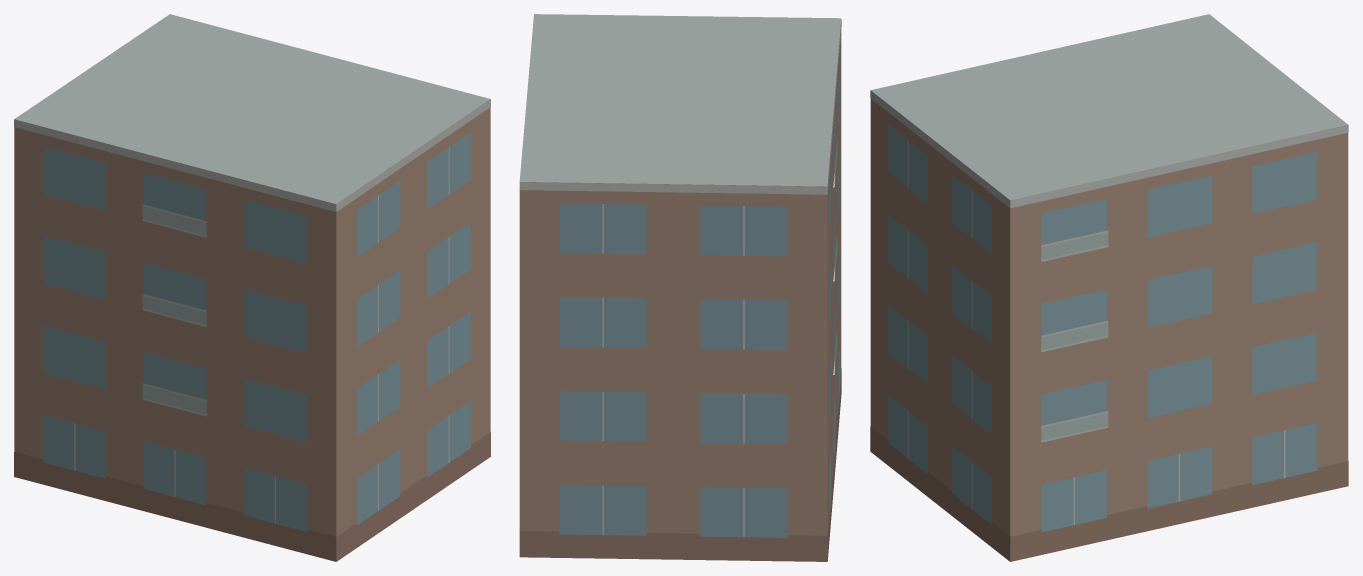
File: survey-upis-32602730.glb
3 views of the same model, side by side, from view 1: azimuth 30°, elevation 25°; view 2: azimuth 150°, elevation 25°; view 3: azimuth 270°, elevation 25° (orthographic). The views are drawn at different scales.
Parts seen in each view (by area): view 1: survey-upis-32602730.tmp; view 2: survey-upis-32602730.tmp; view 3: survey-upis-32602730.tmp.
Part boxes in pixels (bbox=[...]): survey-upis-32602730.tmp: bbox=[14, 14, 490, 561]; survey-upis-32602730.tmp: bbox=[519, 14, 841, 561]; survey-upis-32602730.tmp: bbox=[870, 14, 1348, 561].
Bounding box in the file's own units: 12.29 × 11.1 × 13.31.
